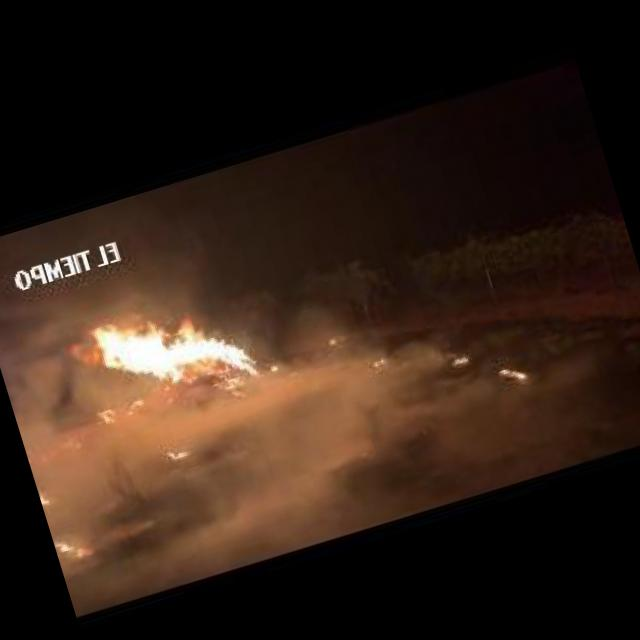fire: (66, 279, 276, 425), (54, 532, 90, 563), (500, 361, 530, 385), (36, 483, 58, 508), (166, 444, 188, 458), (453, 351, 472, 366), (372, 356, 388, 367), (327, 336, 336, 342)
